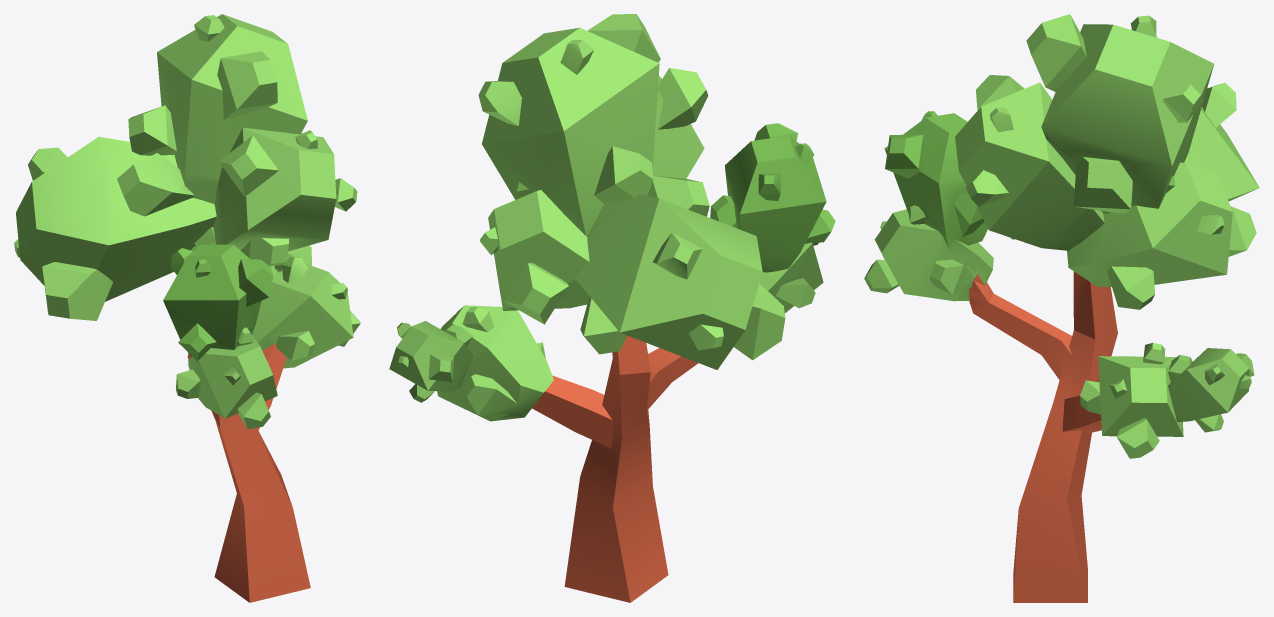
Rendered from Tree.glb.
The picture shows the model from 3 angles, left to right: view 1: azimuth 30°, elevation 25°; view 2: azimuth 150°, elevation 25°; view 3: azimuth 270°, elevation 25°; orthographic projection. The views are drawn at different scales.
Visible parts, largest first — view 1: Tree; view 2: Tree; view 3: Tree.
Part boxes in pixels (x1,y1,x2,y2): Tree: (14,14,360,602); Tree: (389,14,835,602); Tree: (864,14,1259,602).
Bounding box in the file's own units: 1059 × 1673 × 1060.
